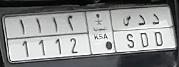1: (33, 17, 48, 56), (17, 18, 30, 59), (52, 16, 64, 55)
2: (66, 15, 80, 55)
D: (152, 12, 164, 47), (138, 14, 149, 48)
S: (122, 14, 135, 49)
